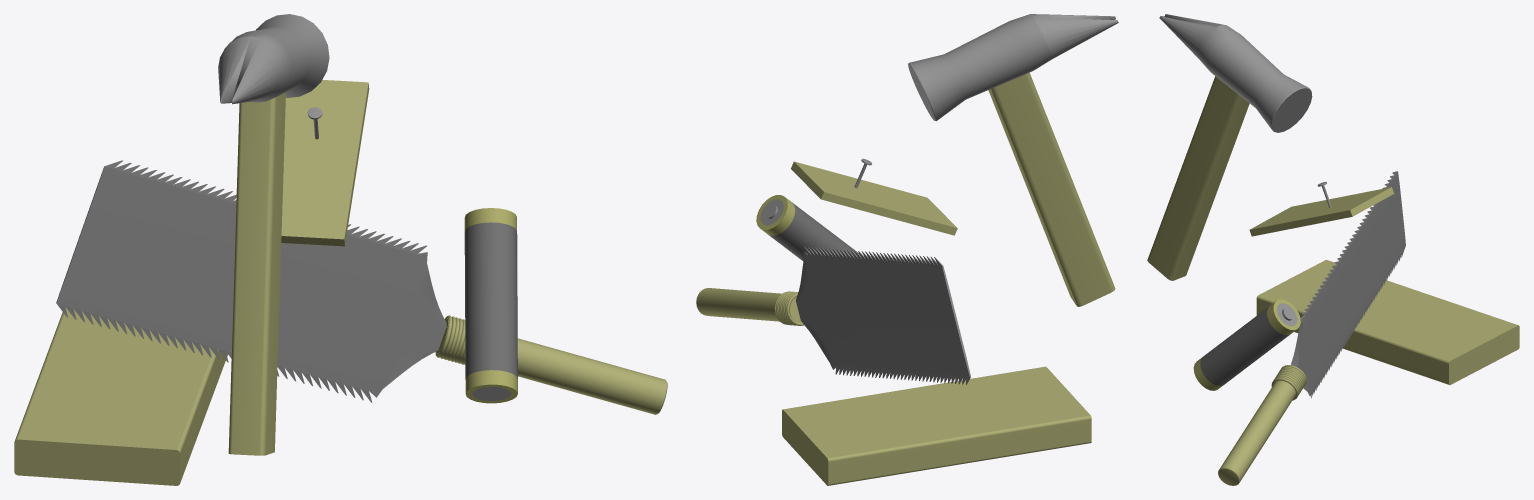
File: AreaSelect_TechnicalHomeEconomics.fbx
3 renders of one model, left to right at view 1: azimuth 30°, elevation 25°; view 2: azimuth 150°, elevation 25°; view 3: azimuth 270°, elevation 25°, orthographic. The views are drawn at different scales.
Visible parts, largest first — view 1: Saw, Wood, Hammer, NailAndBoard, Battery; view 2: Wood, Saw, Hammer, NailAndBoard, Battery; view 3: Hammer, Saw, Wood, Battery, NailAndBoard.
Boxes of the visible parts, bbox=[...] form: Saw: bbox=[56, 160, 667, 414]; Wood: bbox=[14, 306, 227, 485]; Hammer: bbox=[218, 14, 329, 455]; NailAndBoard: bbox=[281, 80, 369, 246]; Battery: bbox=[464, 208, 517, 403]; Wood: bbox=[782, 366, 1091, 485]; Saw: bbox=[696, 246, 970, 384]; Hammer: bbox=[908, 14, 1118, 306]; NailAndBoard: bbox=[791, 158, 957, 235]; Battery: bbox=[756, 195, 859, 261]; Hammer: bbox=[1147, 14, 1312, 280]; Saw: bbox=[1218, 171, 1405, 485]; Wood: bbox=[1256, 259, 1519, 384]; Battery: bbox=[1193, 299, 1300, 390]; NailAndBoard: bbox=[1249, 181, 1394, 236].
Bounding box in the file's own units: 89.21 × 70.85 × 73.62.
